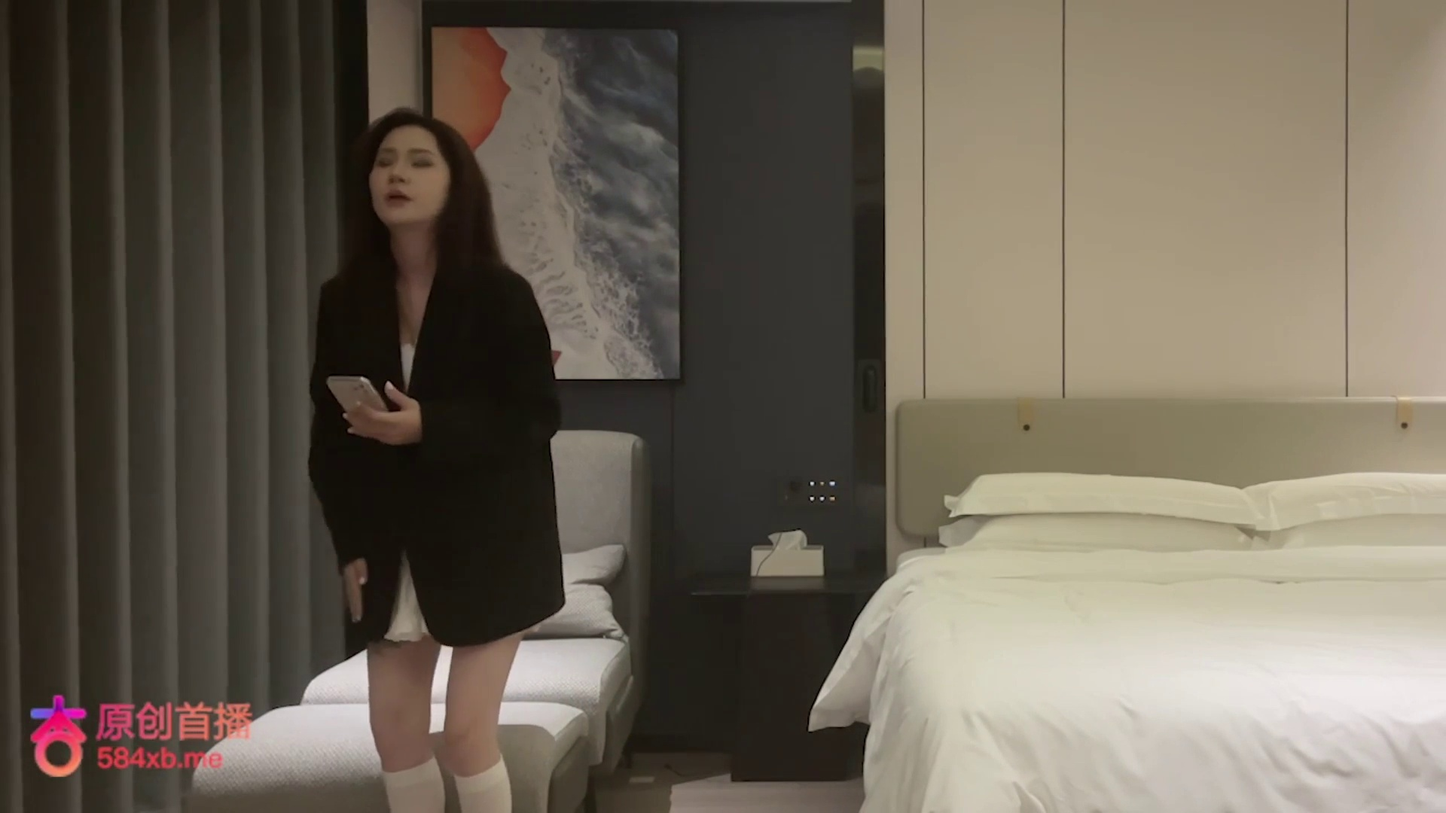stand: (306, 107, 566, 807)
